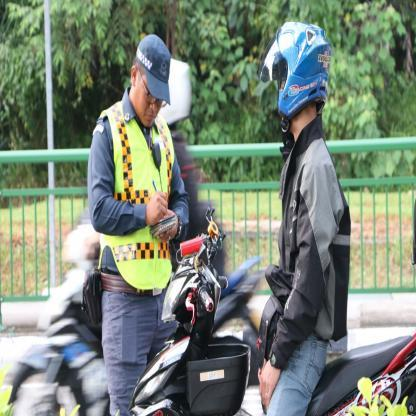helmet: (261, 20, 331, 126)
nohelmet: (128, 33, 170, 129)
